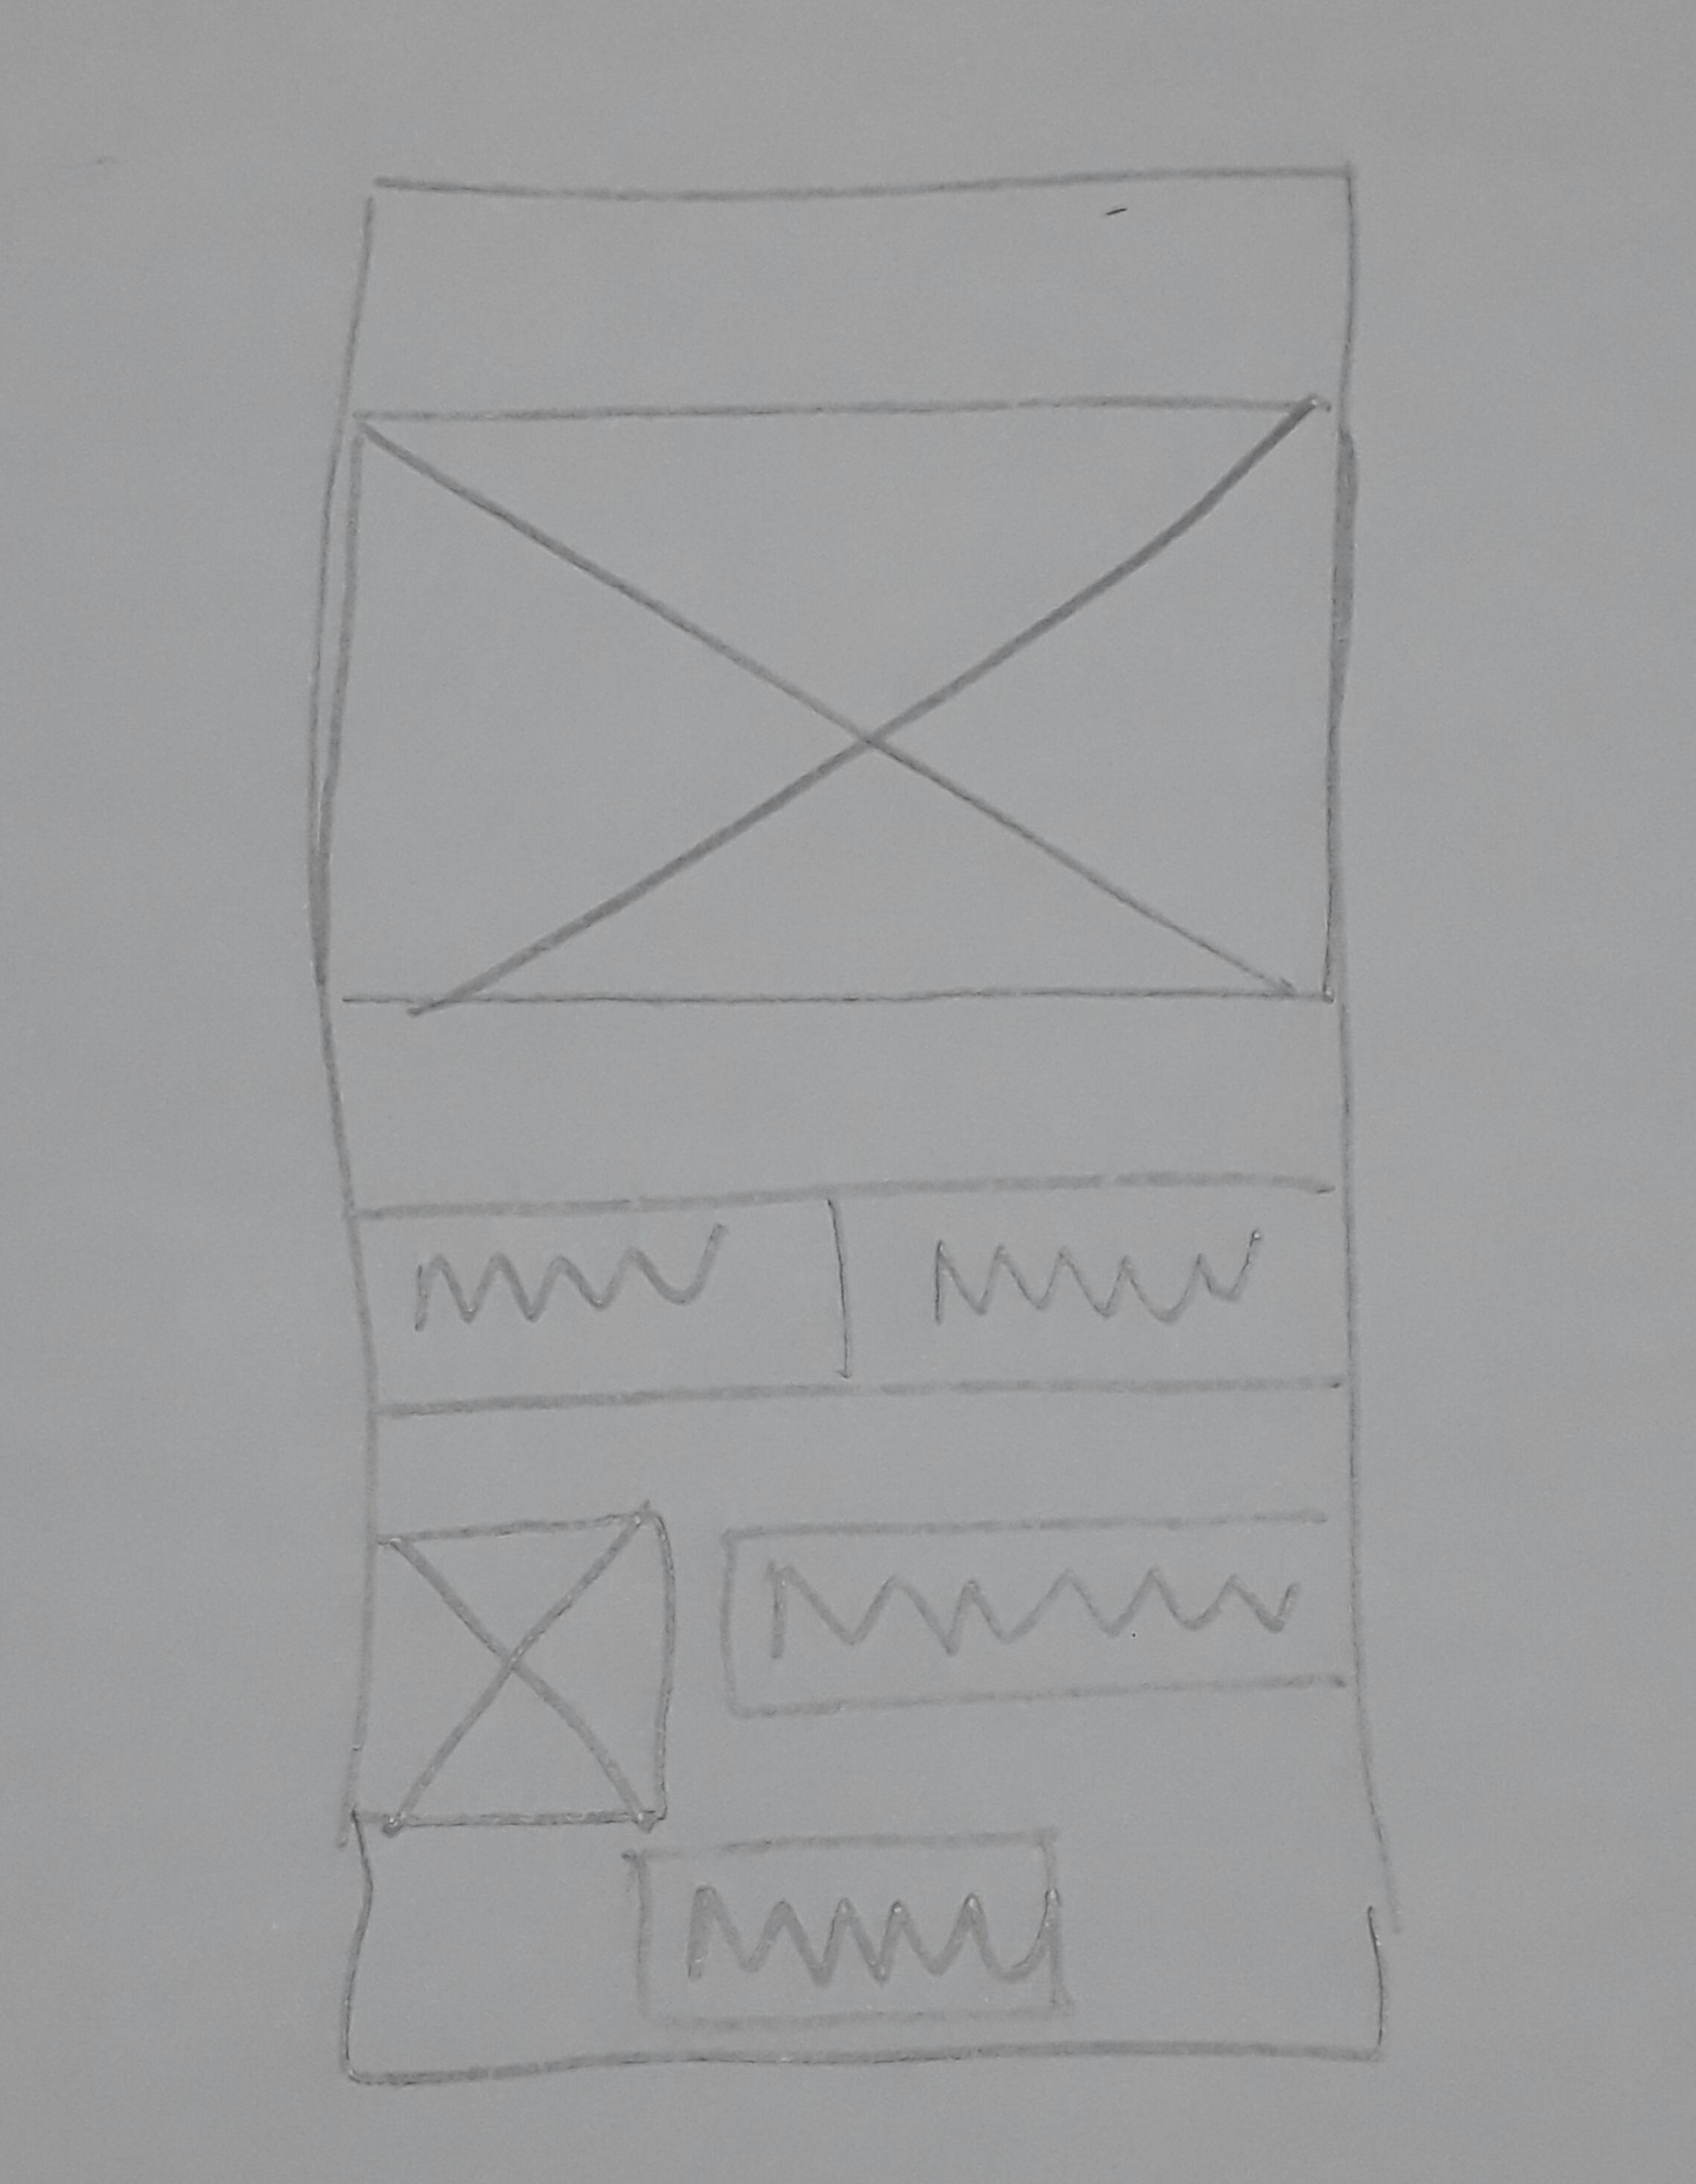Button: (720, 1512, 1356, 1714), (838, 1175, 1354, 1400), (356, 1189, 851, 1411), (633, 1828, 1065, 2028)
Image: (323, 406, 1354, 1002), (349, 1509, 677, 1829)
Screen: (317, 163, 1393, 2072)
